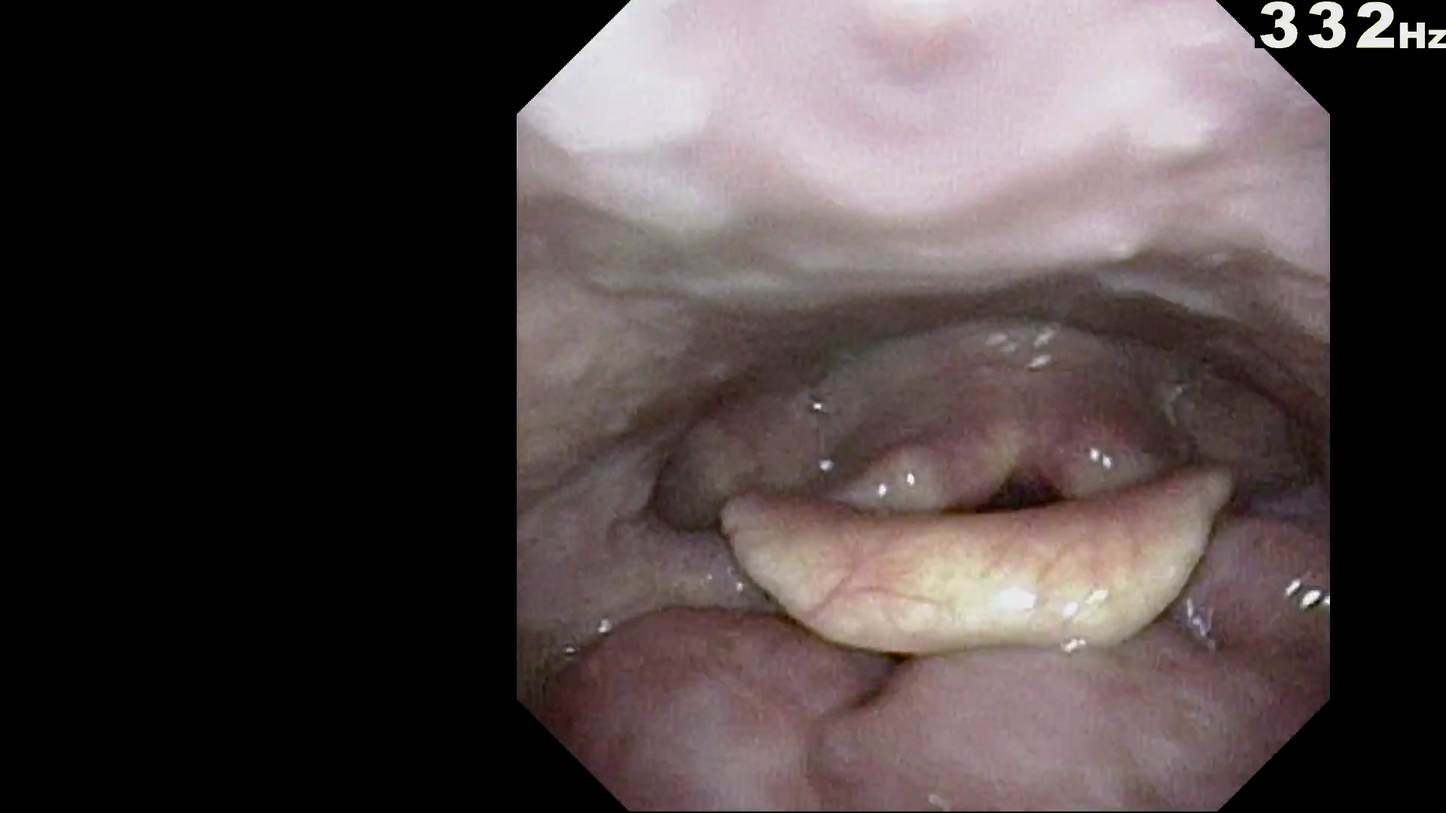epiglottis: (696, 509, 1237, 676)
trachea: (950, 461, 1068, 567)
